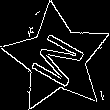M_SE: (24, 26, 90, 91)
